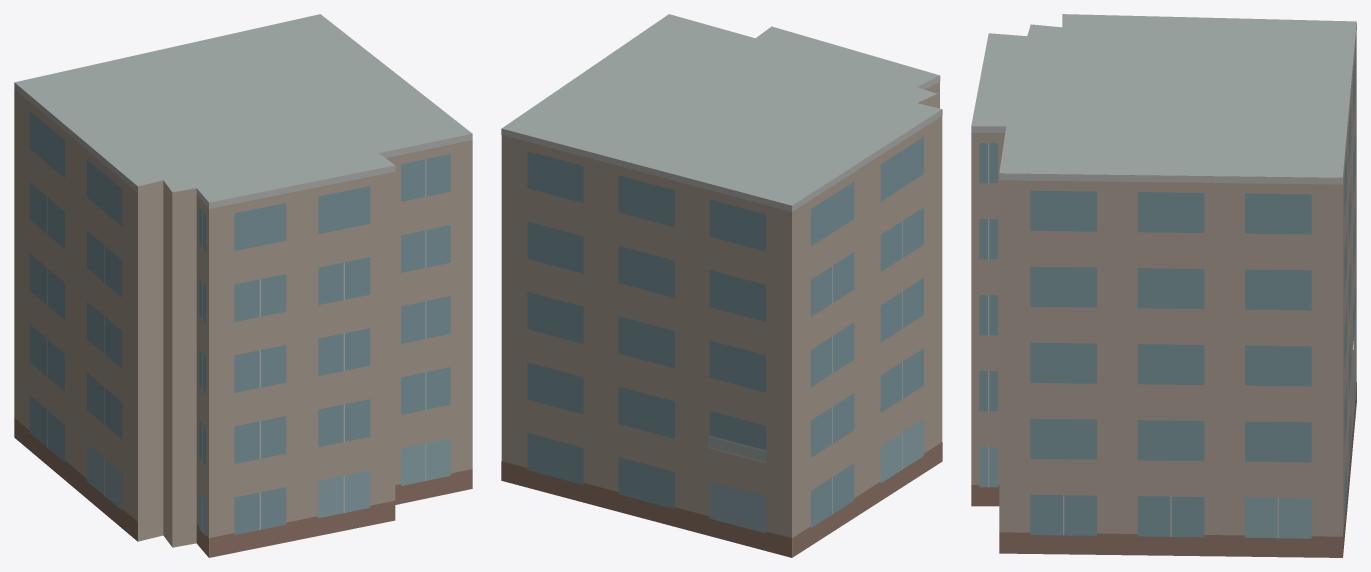
The model's file is survey-upis-32837922.glb.
3 renders of one model, left to right at view 1: azimuth 30°, elevation 25°; view 2: azimuth 150°, elevation 25°; view 3: azimuth 270°, elevation 25°, orthographic. The views are drawn at different scales.
Parts seen in each view (by area): view 1: survey-upis-32837922.tmp; view 2: survey-upis-32837922.tmp; view 3: survey-upis-32837922.tmp.
Part boxes in pixels (box(x1,y1,x2,y2)): survey-upis-32837922.tmp: box(14, 14, 472, 557); survey-upis-32837922.tmp: box(501, 14, 942, 557); survey-upis-32837922.tmp: box(971, 14, 1356, 557).
Bounding box in the file's own units: 12.58 × 13.6 × 12.52.
